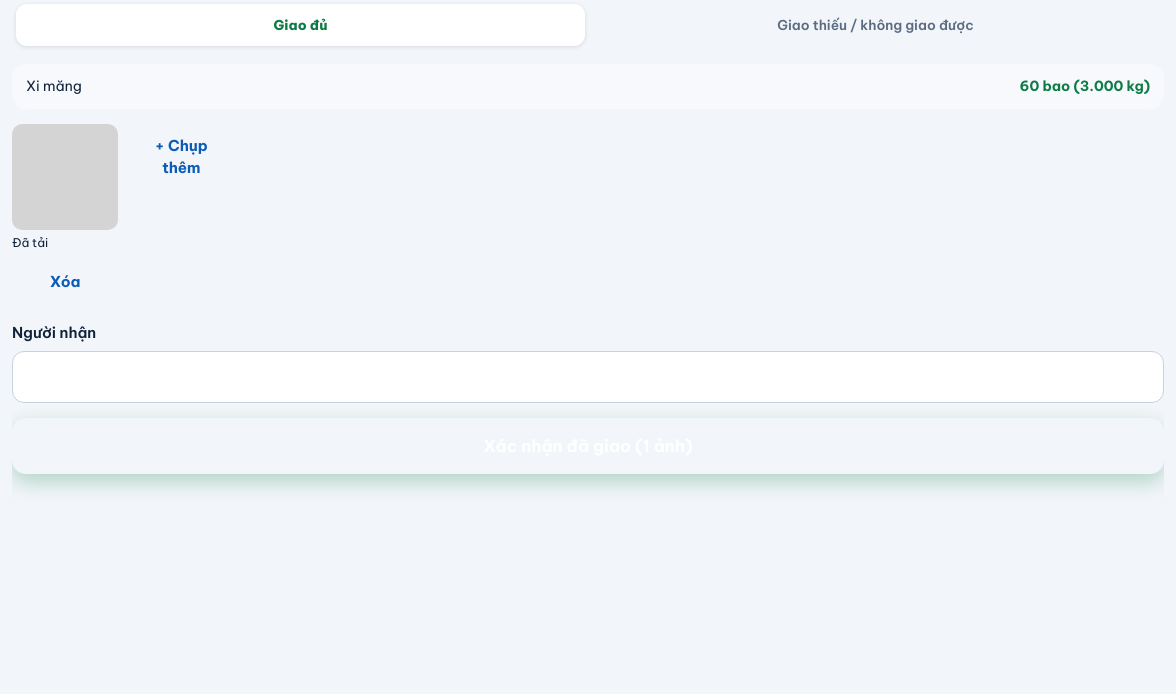
it: reports a short delivery in the sold unit; nothing delivered needs no note (FB7)
Click the radio button labelled "Giao thiếu / không giao được" at [876, 25], box [591,4,1160,46]
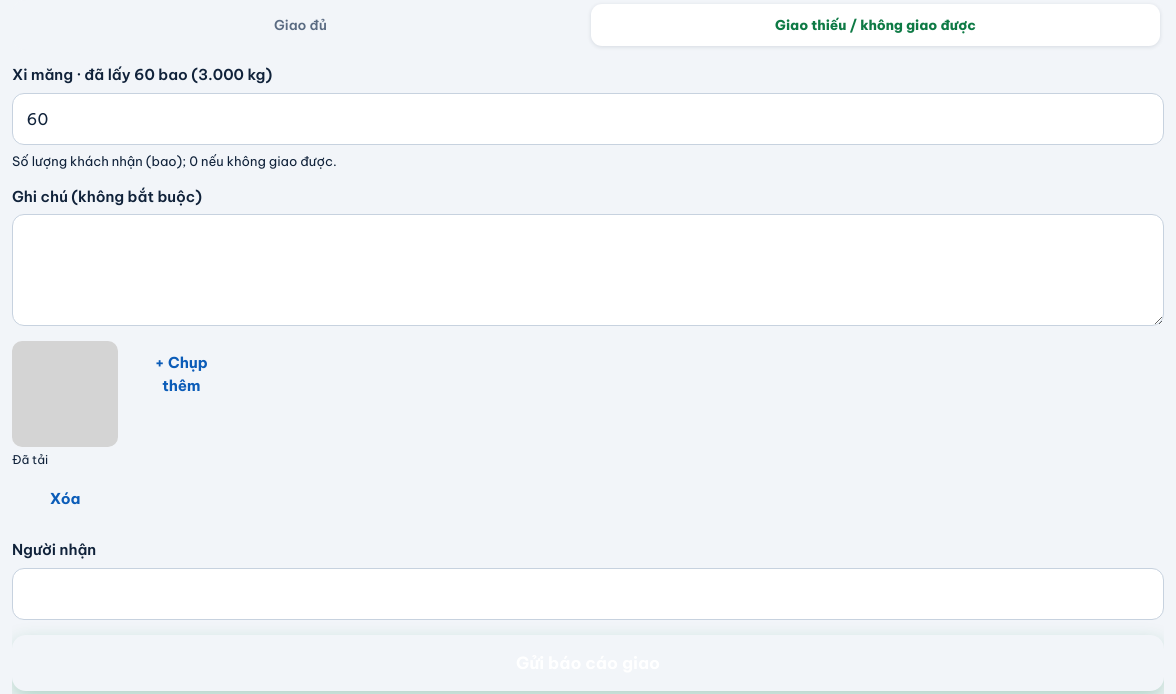
Result: the field labelled "Xi măng · đã lấy 60 bao (3.000 kg)" holds "60"
Replace the text in the field labelled "Xi măng · đã lấy 60 bao (3.000 kg)" with "58" at [588, 119], box [12,93,1164,145]
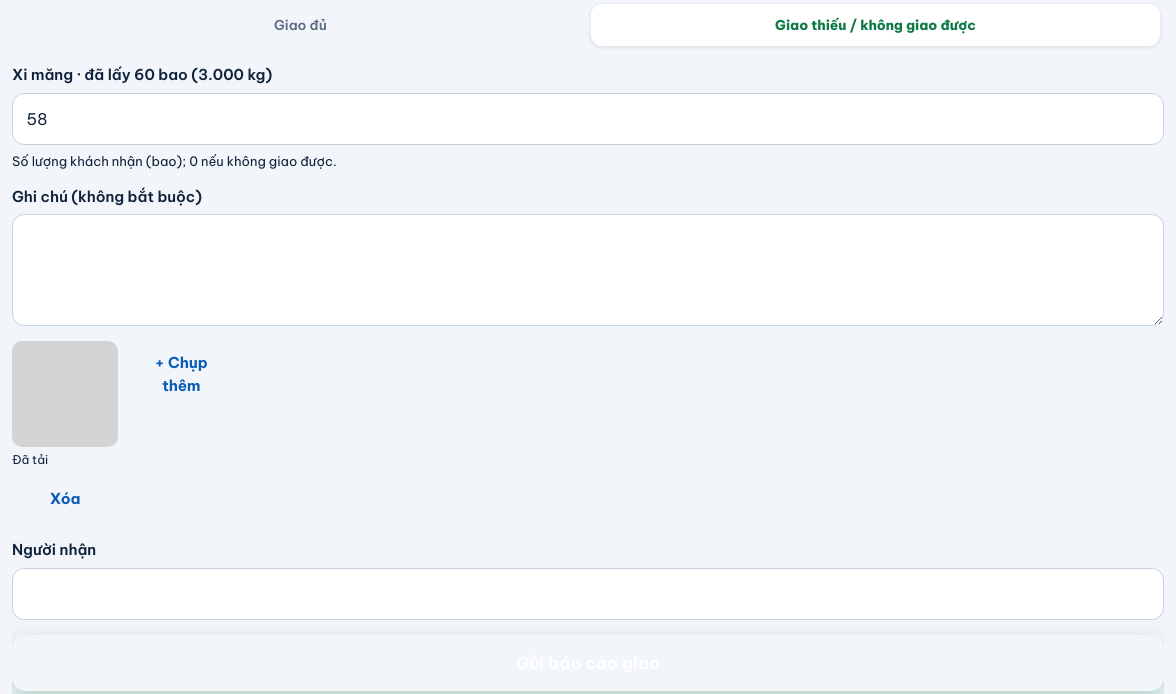
Click the button "Gửi báo cáo giao" at [588, 663], box [12,635,1164,691]
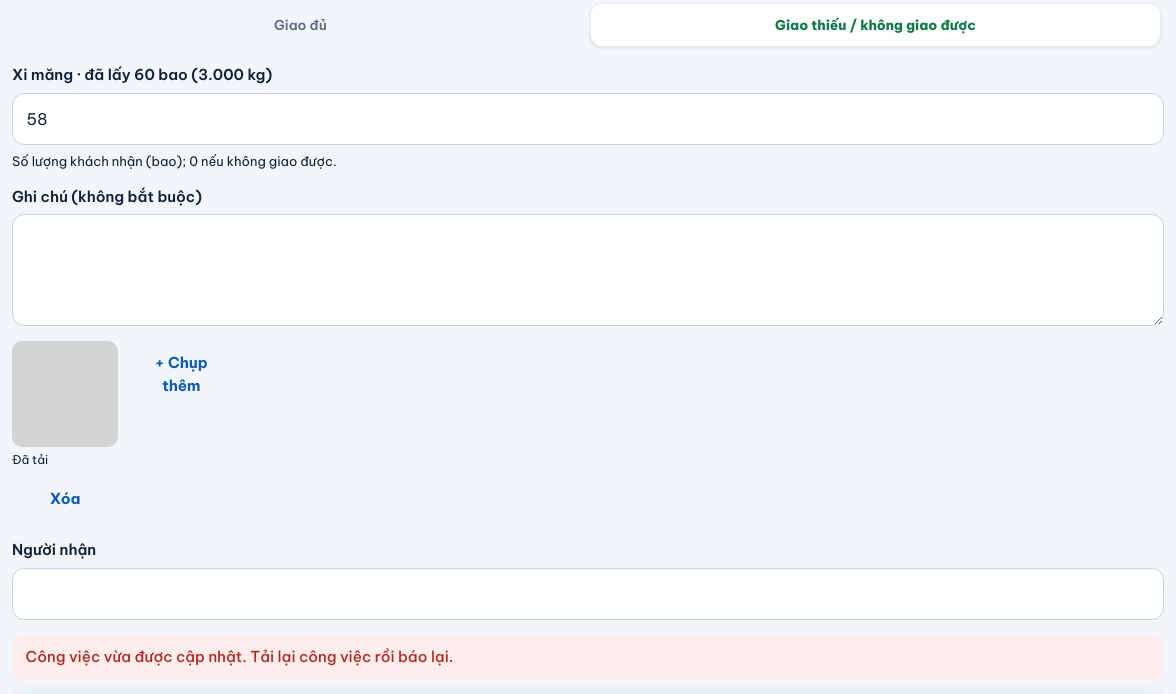
Result: the message shows "Tải lại công việc" at [26,647,453,666]
